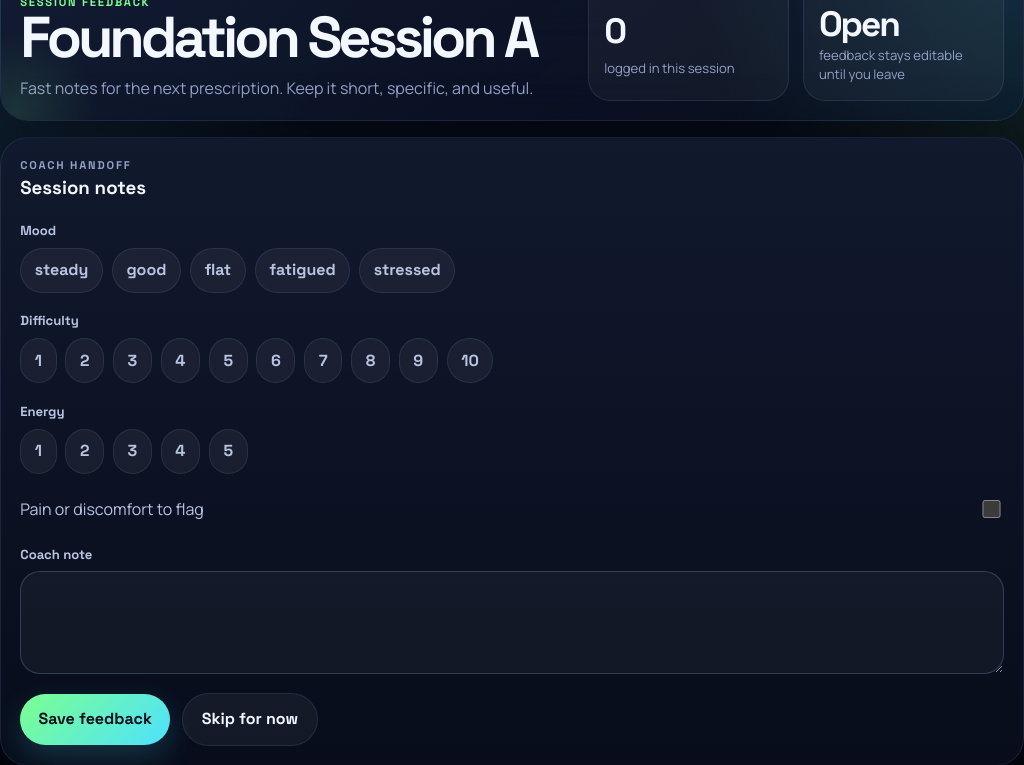
feedback page › shows the save error banner when feedback submission fails
(page scrolled)
Click the button "Save feedback" at [95, 719], box x1=20 y1=694 x2=170 y2=745
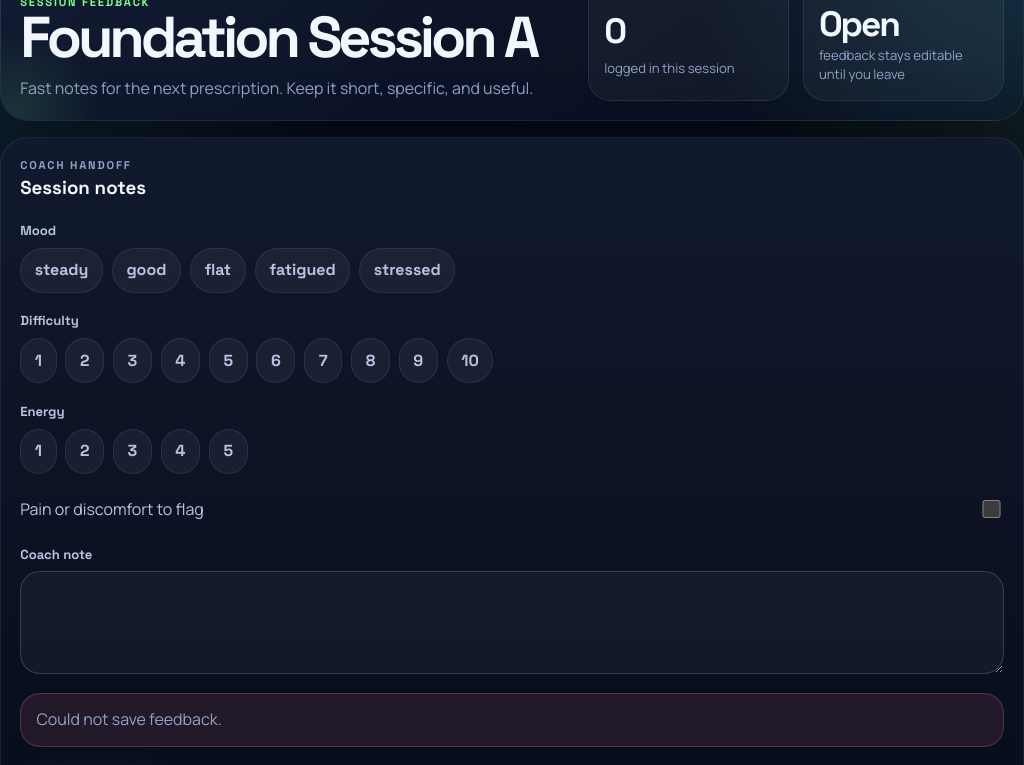
Check: the text "Could not save feedback." is shown, box x1=20 y1=692 x2=1004 y2=746
